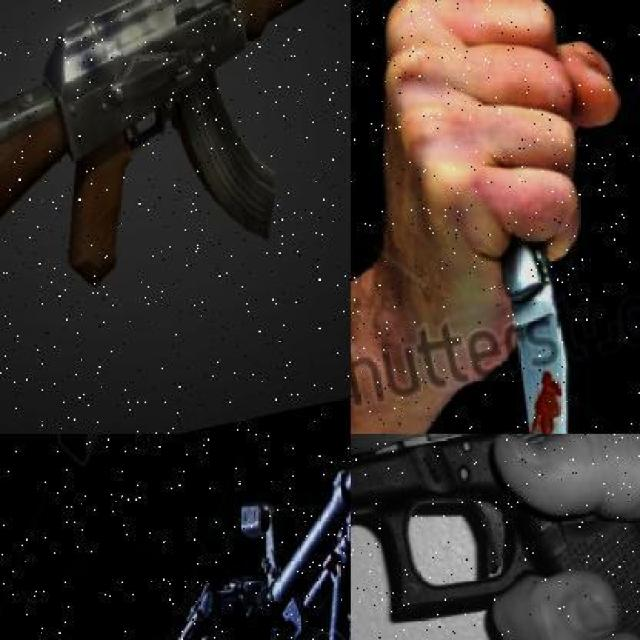weapon: (4, 5, 318, 277), (482, 179, 579, 449)
